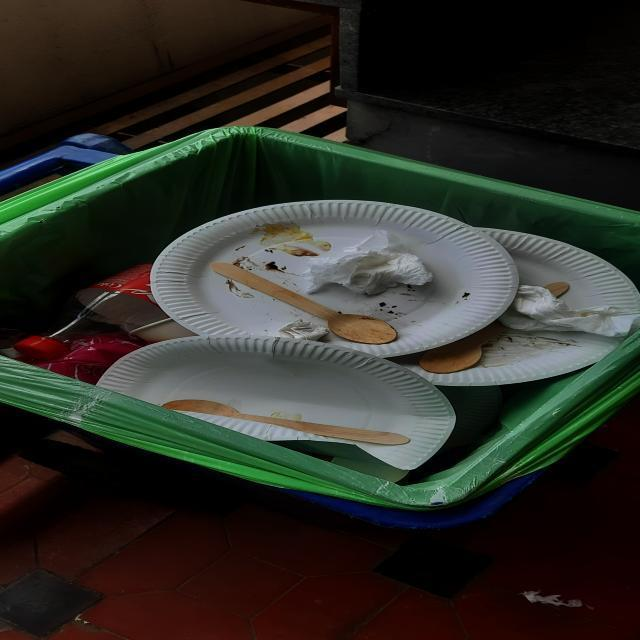Disposable: (152, 200, 520, 358), (97, 335, 455, 470), (476, 228, 639, 311), (390, 329, 625, 386)
Garbage: (0, 200, 639, 482)
Plastic_bottle: (13, 264, 170, 360)
Plastic_wraper: (24, 336, 149, 384)
